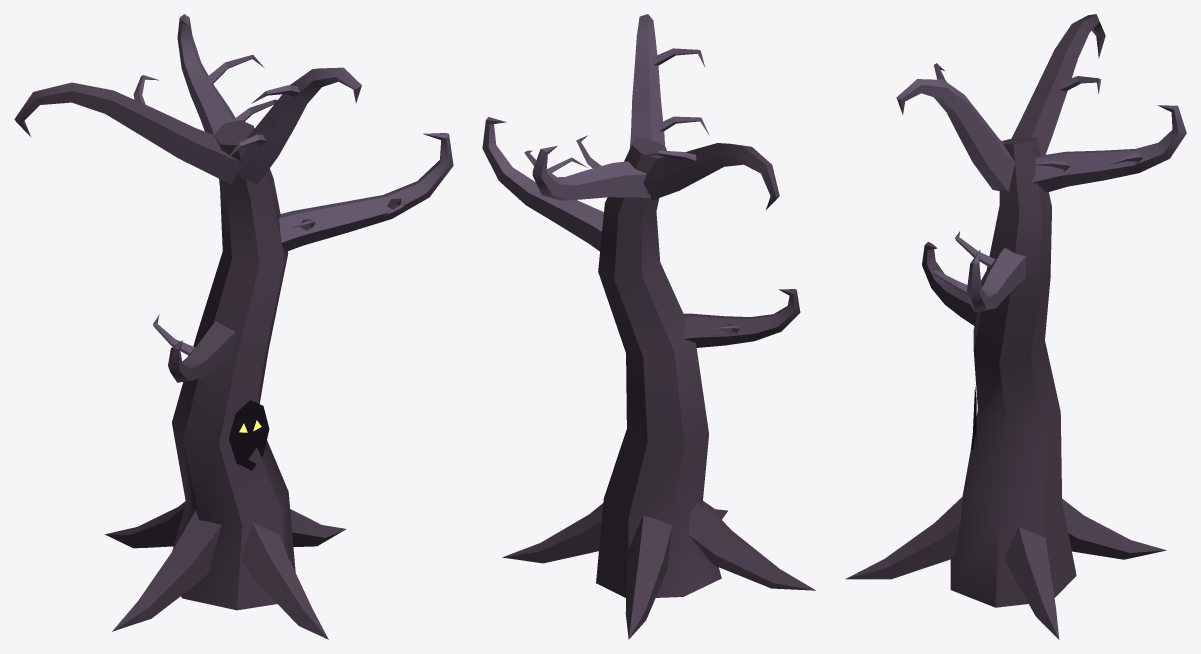
Rendered from twisted_tree.glb.
3 views of the same model, side by side, from view 1: azimuth 30°, elevation 25°; view 2: azimuth 150°, elevation 25°; view 3: azimuth 270°, elevation 25° (orthographic). The views are drawn at different scales.
Visible parts, largest first — view 1: twisted_tree; view 2: twisted_tree; view 3: twisted_tree.
Part boxes in pixels (x1,y1,x2,y2): twisted_tree: [14, 14, 453, 639]; twisted_tree: [482, 14, 815, 639]; twisted_tree: [845, 14, 1186, 639].
Bounding box in the file's own units: 3.5 × 4.87 × 2.84.
